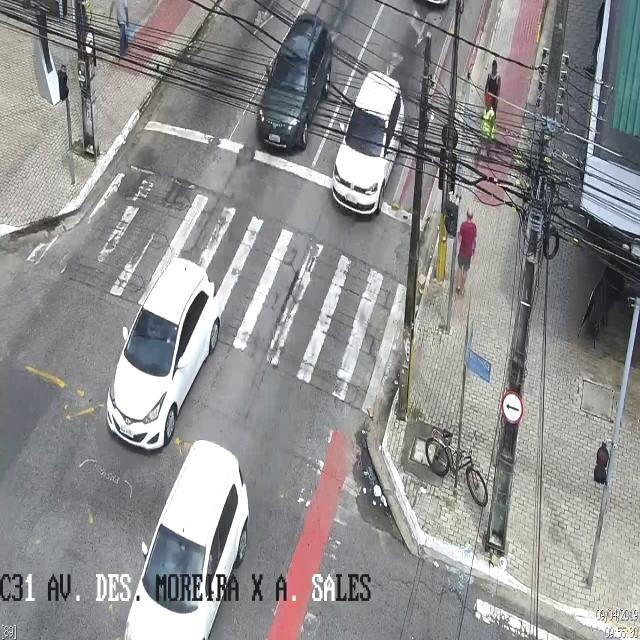Car: (125, 438, 248, 638), (105, 256, 221, 453), (256, 14, 334, 152), (333, 69, 403, 217)
